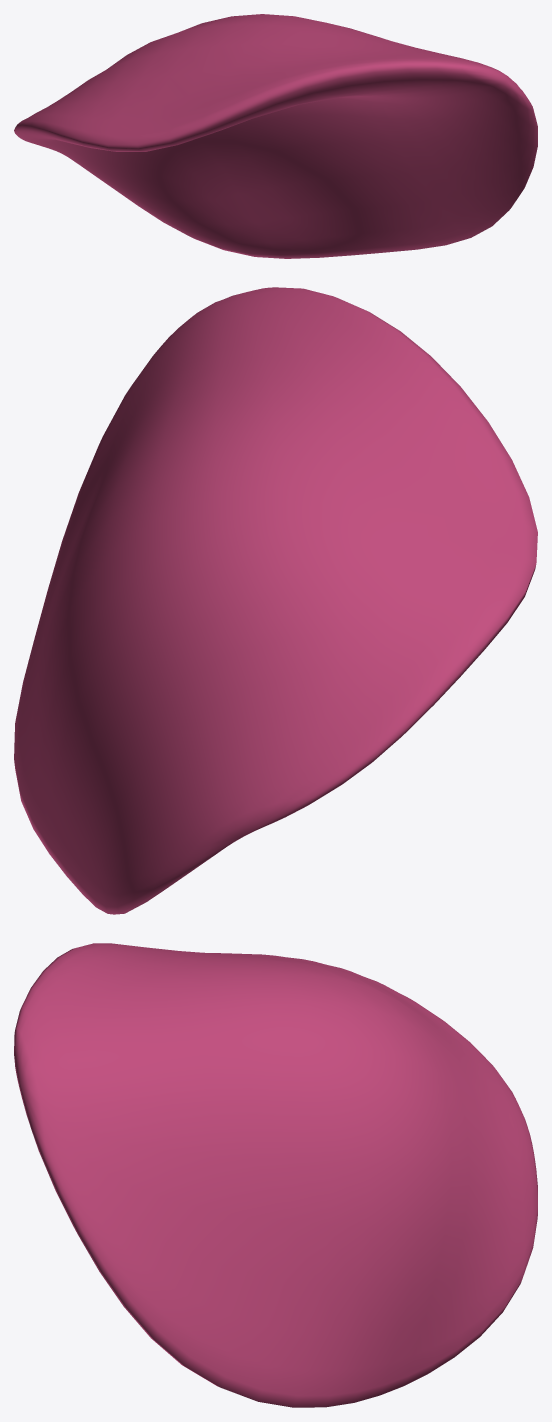
The picture shows the model from 3 angles, top to bottom: view 1: azimuth 30°, elevation 25°; view 2: azimuth 150°, elevation 25°; view 3: azimuth 270°, elevation 25°; orthographic projection. The views are drawn at different scales.
Visible parts, largest first — view 1: 左侧臀大肌坐骨囊; view 2: 左侧臀大肌坐骨囊; view 3: 左侧臀大肌坐骨囊.
Part boxes in pixels (bbox=[...]): 左侧臀大肌坐骨囊: bbox=[14, 14, 537, 258]; 左侧臀大肌坐骨囊: bbox=[14, 287, 537, 914]; 左侧臀大肌坐骨囊: bbox=[14, 943, 537, 1407].
Size of the model in its own units: 0.0389 by 0.03 by 0.0376.
